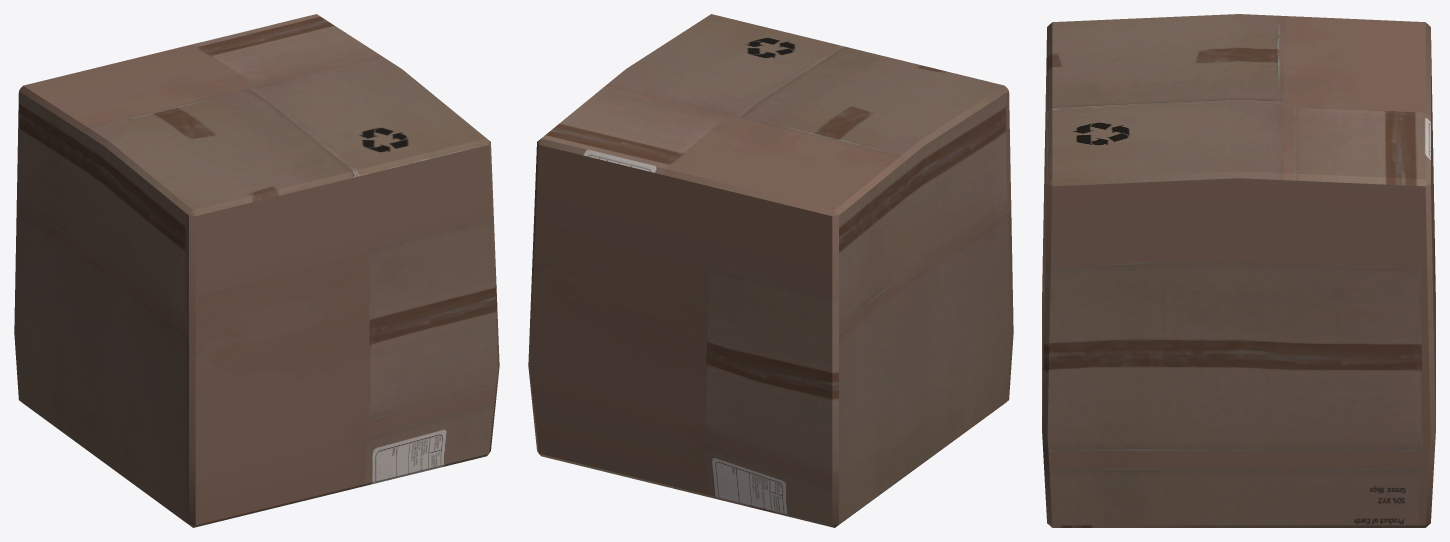
File: BoxSquare.glb
3 renders of one model, left to right at view 1: azimuth 30°, elevation 25°; view 2: azimuth 150°, elevation 25°; view 3: azimuth 270°, elevation 25°, orthographic. The views are drawn at different scales.
Visible parts, largest first — view 1: BoxSquare; view 2: BoxSquare; view 3: BoxSquare.
Part boxes in pixels (<box>): BoxSquare: <box>14,14,499,527</box>; BoxSquare: <box>528,14,1013,527</box>; BoxSquare: <box>1042,14,1435,527</box>.
Size of the model in its own units: 0.3618 by 0.3617 by 0.3617.
Materials: 1 (1 with a texture image).
